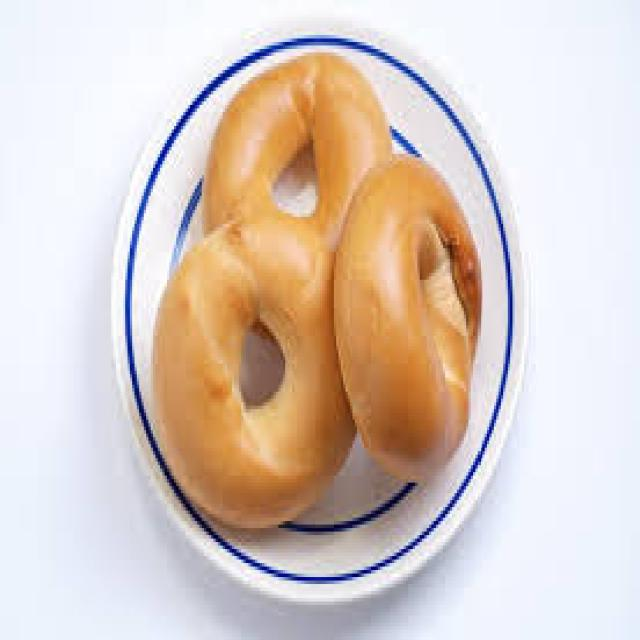Bagel: (156, 219, 354, 527), (334, 156, 481, 480), (205, 55, 391, 289)
